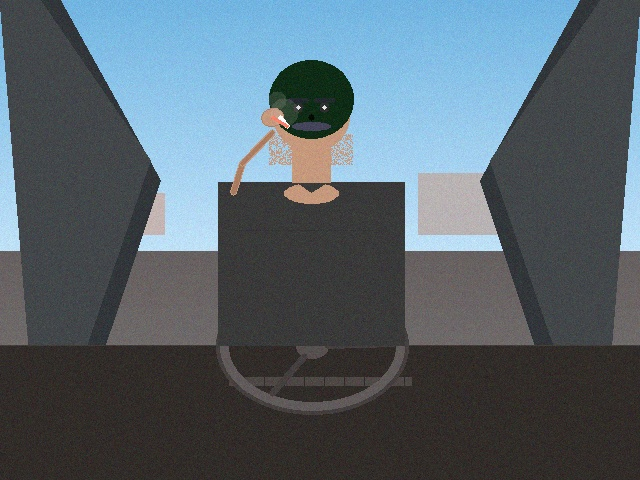smoking: (262, 102, 290, 132)
